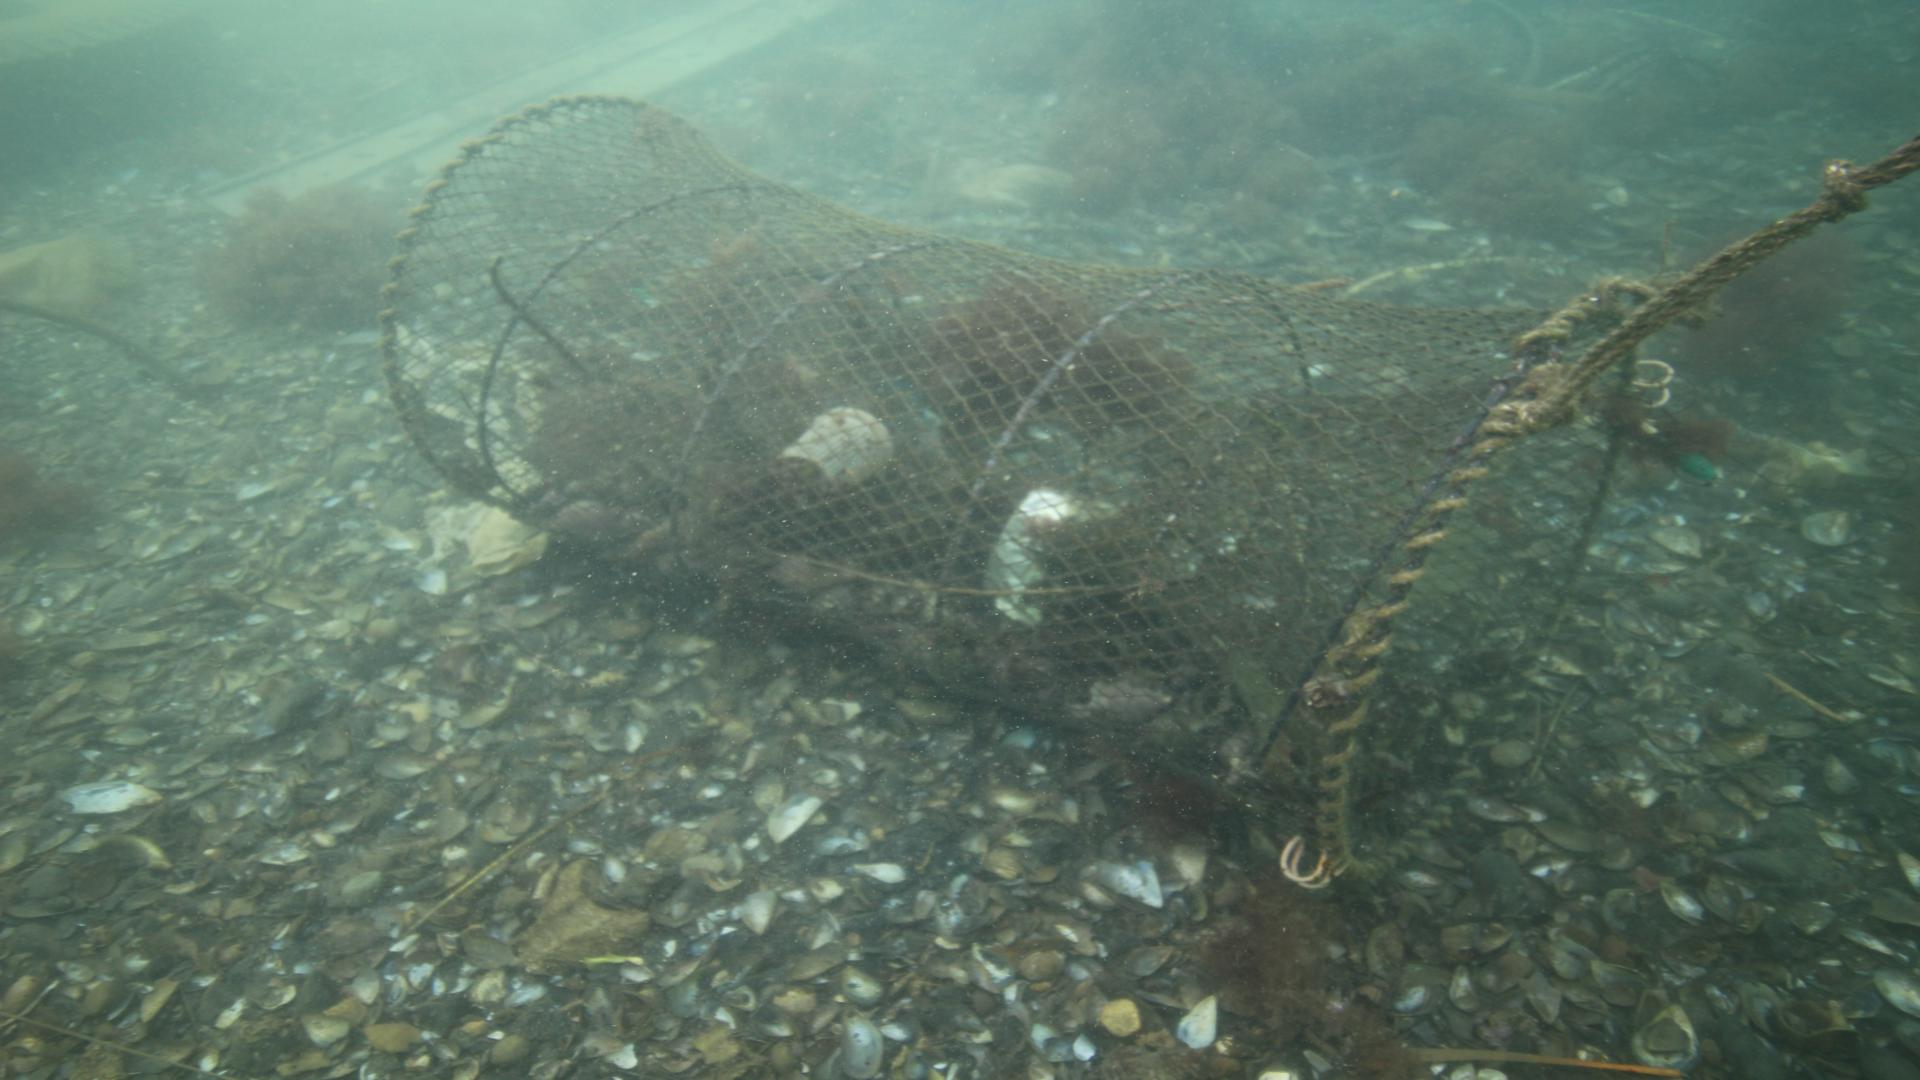bundle of ropes: (1532, 150, 1920, 426)
spring fish trap: (378, 91, 1636, 886)
